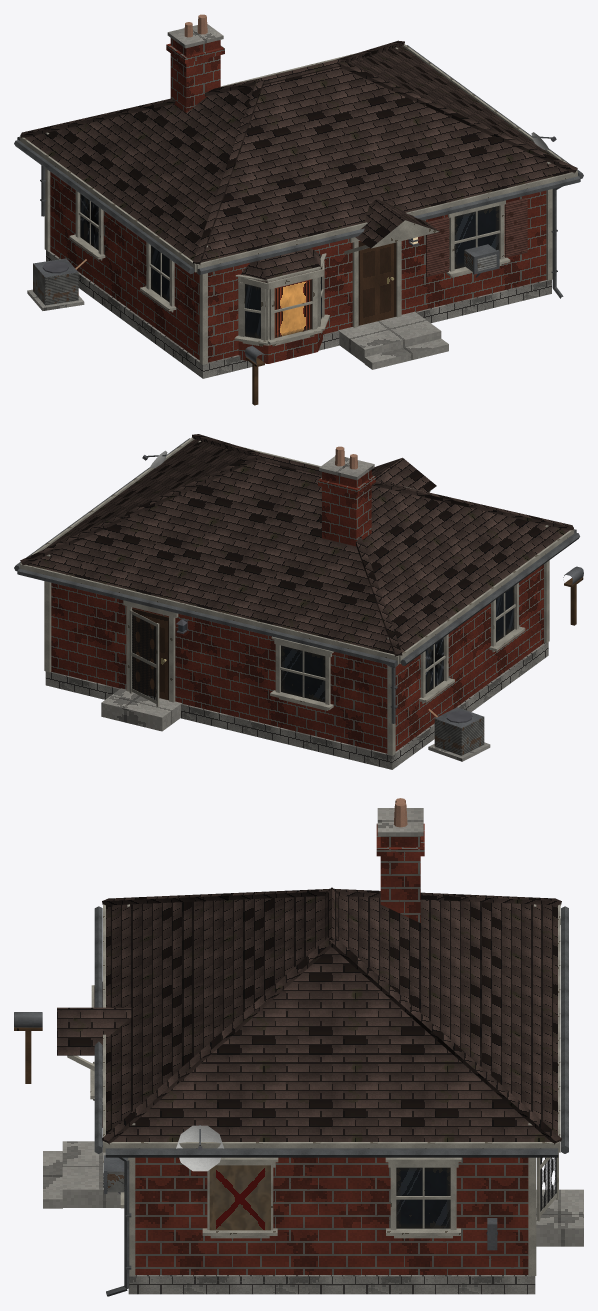
The model's file is house_b.glb.
3 renders of one model, top to bottom at view 1: azimuth 30°, elevation 25°; view 2: azimuth 150°, elevation 25°; view 3: azimuth 270°, elevation 25°, orthographic. The views are drawn at different scales.
Visible parts, largest first — view 1: detail, shell-col; view 2: detail, shell-col; view 3: detail, shell-col.
Boxes of the visible parts, x1,y1,x2,y2 form: detail: [14, 14, 583, 405]; shell-col: [46, 172, 551, 378]; detail: [14, 434, 583, 761]; shell-col: [45, 564, 548, 769]; detail: [14, 798, 568, 1296]; shell-col: [43, 1141, 583, 1294].
Size of what is drawn, in the model's own units: 11.25 by 6.49 by 9.95.
Materials: 24 (24 with a texture image).
